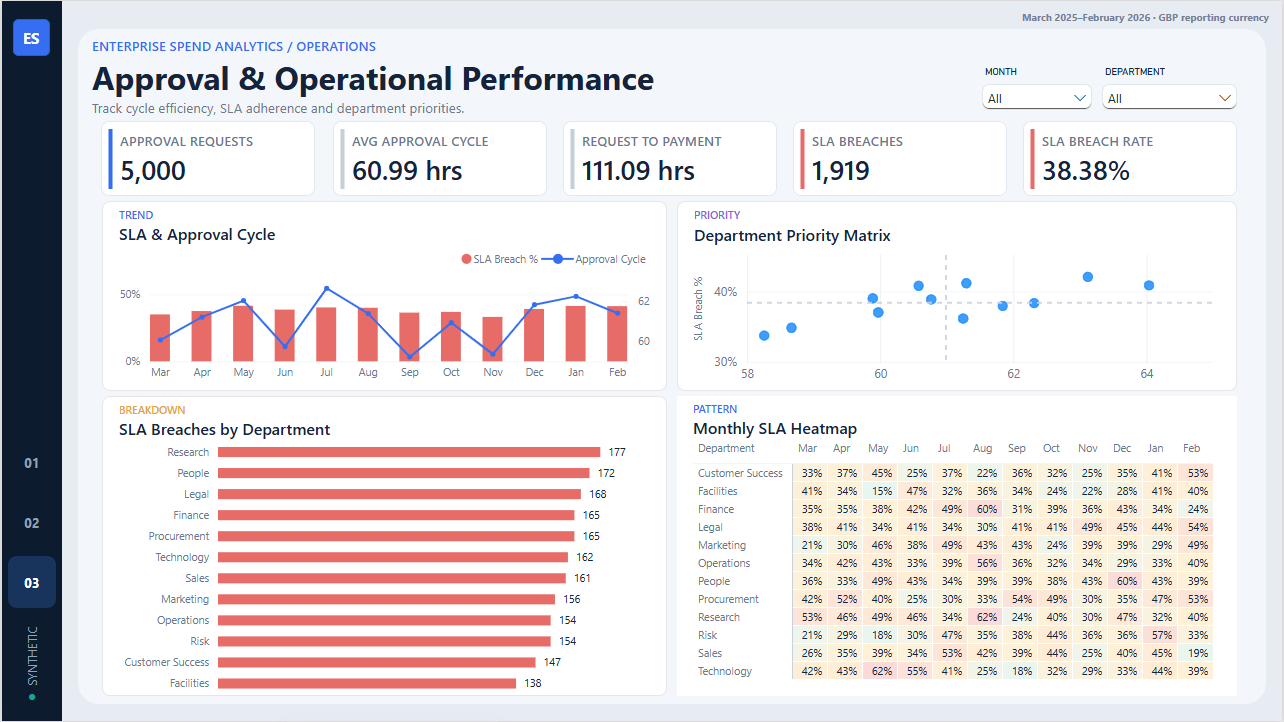

The page's visual inventory and layout, read from the dashboard file:
{"tool":"powerbi","page":{"name":"Approval & Operational Performance","canvas":[1280,720],"ordinal":2},"visuals":[{"type":"shape","box":[0,0,60,720],"z":0},{"type":"slicer","fields":{"Values":["Dim Month.Month"]},"box":[975,65,120,50],"z":0,"group":"g7"},{"type":"group","id":"g1","title":"Group 3","box":[93,120,220,75],"z":0,"group":"g8"},{"type":"shape","box":[11,18,37,37],"z":1000},{"type":"slicer","fields":{"Values":["Dim Department.department_name"]},"box":[1095,65,145,50],"z":1000,"group":"g7"},{"type":"group","id":"g2","title":"Group 3","box":[325,120,220,75],"z":1000,"group":"g8"},{"type":"textbox","box":[21,27,30,30],"z":2000},{"type":"group","id":"g3","title":"Group 3","box":[555,120,220,75],"z":2000,"group":"g8"},{"type":"group","id":"g4","title":"Group 3","box":[785,120,220,75],"z":3000,"group":"g8"},{"type":"actionButton","box":[6,435,48,52],"z":3000},{"type":"group","id":"g5","title":"Group 3","box":[1015,120,220,75],"z":4000,"group":"g8"},{"type":"actionButton","box":[6,495,48,52],"z":4000},{"type":"actionButton","box":[6,555,48,52],"z":5000},{"type":"group","id":"g6","title":"Group 1","box":[10,610,40,95],"z":6000},{"type":"shape","box":[10,610,40,90],"z":6000,"group":"g6"},{"type":"shape","box":[76,28,1188,675],"z":7000},{"type":"textbox","box":[26,685,15,20],"z":7000,"group":"g6"},{"type":"textbox","box":[90,35,600,100],"z":8000},{"type":"textbox","box":[1020,5,250,40],"z":9000},{"type":"group","id":"g7","title":"Group 2","box":[975,65,265,50],"z":10000},{"type":"group","id":"g8","title":"Group 4","box":[93,120,1142,75],"z":11000},{"type":"cardVisual","fields":{"Data":["_Measures.Approval Requests Display"]},"box":[99.5,120,213.5,75],"z":11000,"group":"g1"},{"type":"cardVisual","fields":{"Data":["_Measures.Average Approval Cycle Display"]},"box":[331.5,120,213.5,75],"z":11000,"group":"g2"},{"type":"cardVisual","fields":{"Data":["_Measures.Request to Payment Display"]},"box":[561.5,120,213.5,75],"z":11000,"group":"g3"},{"type":"cardVisual","fields":{"Data":["_Measures.SLA Breach Count Display"]},"box":[791.5,120,213.5,75],"z":11000,"group":"g4"},{"type":"cardVisual","fields":{"Data":["_Measures.SLA Breach %"]},"box":[1021.5,120,213.5,75],"z":11000,"group":"g5"},{"type":"shape","box":[93,128,31.3,60],"z":15000,"group":"g1"},{"type":"shape","box":[325,128,31.3,60],"z":15000,"group":"g2"},{"type":"shape","box":[555,128,31.3,60],"z":15000,"group":"g3"},{"type":"shape","box":[785,128,31.3,60],"z":15000,"group":"g4"},{"type":"shape","box":[1015,128,31.3,60],"z":15000,"group":"g5"},{"type":"scatterChart","title":"PRIORITY","fields":{"X":["_Measures.Average Approval Cycle Hours"],"Y":["_Measures.SLA Breach %"],"Category":["Dim Department.department_name"],"Size":["_Measures.Approval Requests"]},"box":[675,200,560,190],"z":17000},{"type":"lineClusteredColumnComboChart","title":"TREND","fields":{"Y":["_Measures.SLA Breach %"],"Y2":["_Measures.Average Approval Cycle Hours"],"Category":["Dim Month.Month"]},"box":[100,200,565,190],"z":18000},{"type":"pivotTable","title":"PATTERN","fields":{"Rows":["Dim Department.department_name"],"Columns":["Dim Month.Month"],"Values":["_Measures.SLA Breach %"]},"box":[675,395,560,300],"z":19000},{"type":"clusteredBarChart","title":"BREAKDOWN","fields":{"Category":["Dim Department.department_name"],"Y":["_Measures.SLA Breach Count"]},"box":[100,395,565,300],"z":20000}]}

Visuals, with their boxes on the page's 1280x720 design canvas (x1, y1, x2, y2). These are canvas units, not pixel positions in the 1284x722 screenshot, which may show the page scaled, cropped or inside an application window:
shape: left=0, top=0, right=60, bottom=720
slicer - Dim Month.Month: left=975, top=65, right=1095, bottom=115
"Group 3" group: left=93, top=120, right=313, bottom=195
shape: left=11, top=18, right=48, bottom=55
slicer - Dim Department.department_name: left=1095, top=65, right=1240, bottom=115
"Group 3" group: left=325, top=120, right=545, bottom=195
textbox: left=21, top=27, right=51, bottom=57
"Group 3" group: left=555, top=120, right=775, bottom=195
"Group 3" group: left=785, top=120, right=1005, bottom=195
actionButton: left=6, top=435, right=54, bottom=487
"Group 3" group: left=1015, top=120, right=1235, bottom=195
actionButton: left=6, top=495, right=54, bottom=547
actionButton: left=6, top=555, right=54, bottom=607
"Group 1" group: left=10, top=610, right=50, bottom=705
shape: left=10, top=610, right=50, bottom=700
shape: left=76, top=28, right=1264, bottom=703
textbox: left=26, top=685, right=41, bottom=705
textbox: left=90, top=35, right=690, bottom=135
textbox: left=1020, top=5, right=1270, bottom=45
"Group 2" group: left=975, top=65, right=1240, bottom=115
"Group 4" group: left=93, top=120, right=1235, bottom=195
cardVisual - _Measures.Approval Requests Display: left=100, top=120, right=313, bottom=195
cardVisual - _Measures.Average Approval Cycle Display: left=332, top=120, right=545, bottom=195
cardVisual - _Measures.Request to Payment Display: left=562, top=120, right=775, bottom=195
cardVisual - _Measures.SLA Breach Count Display: left=792, top=120, right=1005, bottom=195
cardVisual - _Measures.SLA Breach %: left=1022, top=120, right=1235, bottom=195
shape: left=93, top=128, right=124, bottom=188
shape: left=325, top=128, right=356, bottom=188
shape: left=555, top=128, right=586, bottom=188
shape: left=785, top=128, right=816, bottom=188
shape: left=1015, top=128, right=1046, bottom=188
"PRIORITY" scatterChart: left=675, top=200, right=1235, bottom=390
"TREND" lineClusteredColumnComboChart: left=100, top=200, right=665, bottom=390
"PATTERN" pivotTable: left=675, top=395, right=1235, bottom=695
"BREAKDOWN" clusteredBarChart: left=100, top=395, right=665, bottom=695
